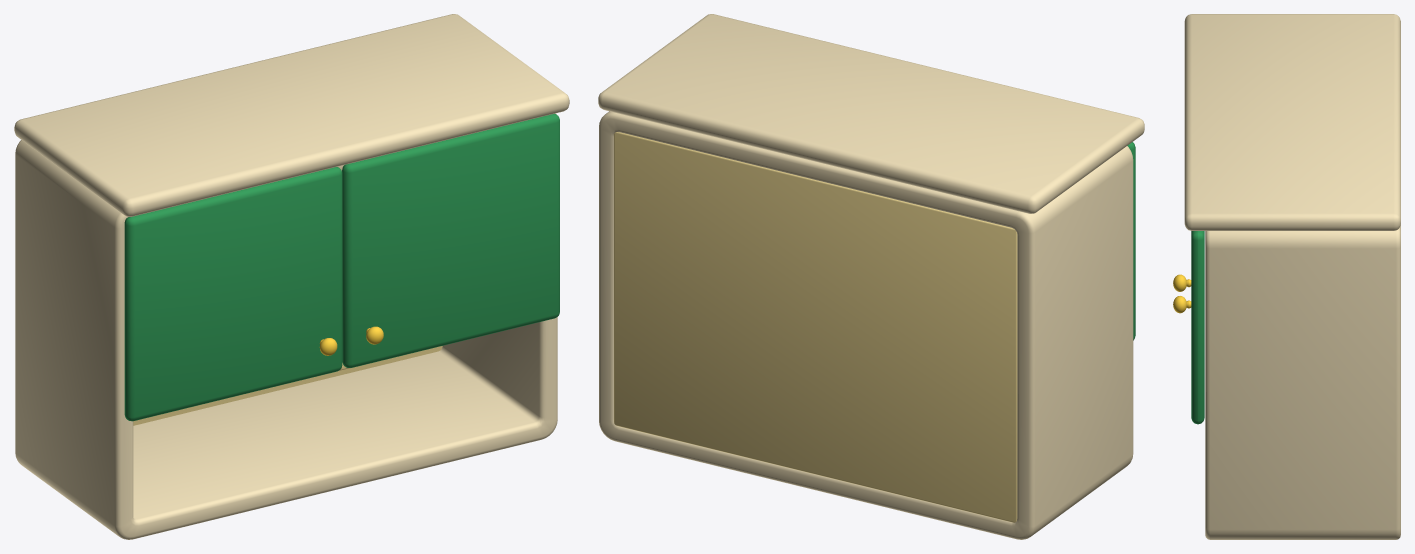
Rendered from armario_parede_nicho_creme.glb.
3 views of the same model, side by side, from view 1: azimuth 30°, elevation 25°; view 2: azimuth 150°, elevation 25°; view 3: azimuth 270°, elevation 25° (orthographic). The views are drawn at different scales.
Parts seen in each view (by area): view 1: armario_parede_nicho_creme, porta_1, porta_2; view 2: armario_parede_nicho_creme; view 3: armario_parede_nicho_creme, porta_2.
Boxes of the visible parts, bbox=[...] form: armario_parede_nicho_creme: bbox=[14, 14, 569, 539]; porta_1: bbox=[124, 167, 342, 421]; porta_2: bbox=[342, 113, 559, 367]; armario_parede_nicho_creme: bbox=[598, 14, 1144, 539]; armario_parede_nicho_creme: bbox=[1184, 14, 1400, 539]; porta_2: bbox=[1173, 231, 1204, 424].
Size of the model in its own units: 0.798 by 0.6 by 0.375.
Materials: 1 (1 with a texture image).
